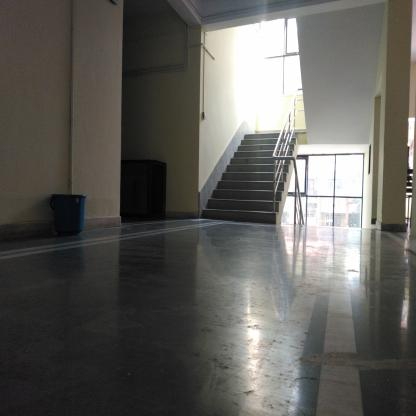stairs: (246, 134, 272, 228)
